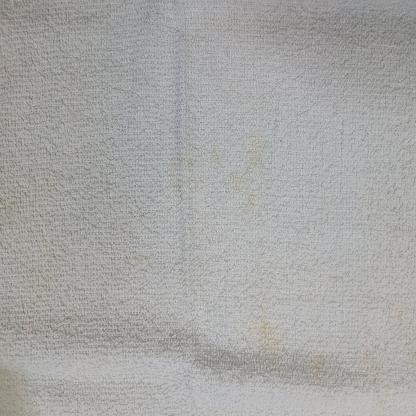spot: (182, 129, 285, 223)
